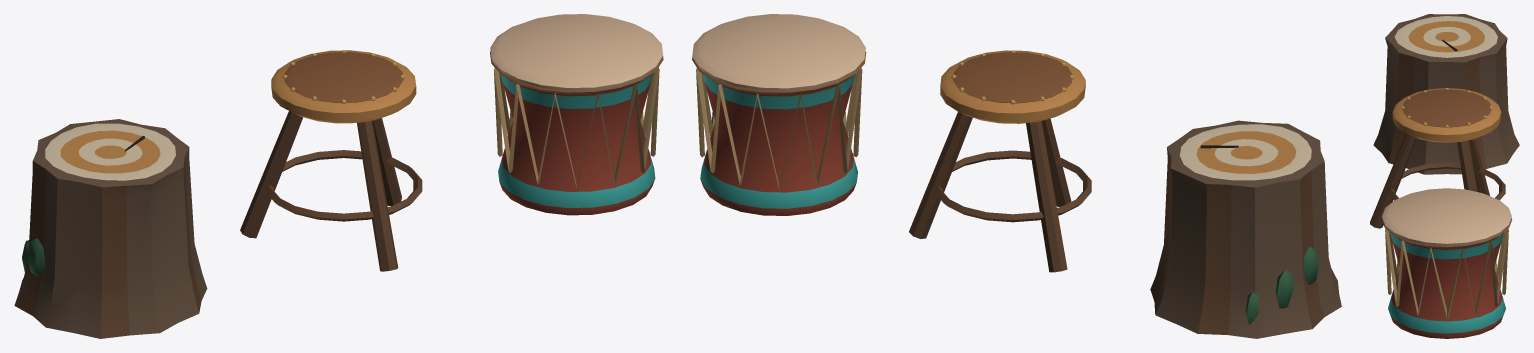
Rendered from deco_stool_set.fbx.
The picture shows the model from 3 angles, left to right: view 1: azimuth 30°, elevation 25°; view 2: azimuth 150°, elevation 25°; view 3: azimuth 270°, elevation 25°; orthographic projection. The views are drawn at different scales.
Parts seen in each view (by area): view 1: Stool_Set_StoolLog, Stool_Set_StoolDrum, Stool_Set_StoolTripod; view 2: Stool_Set_StoolLog, Stool_Set_StoolDrum, Stool_Set_StoolTripod; view 3: Stool_Set_StoolDrum, Stool_Set_StoolLog, Stool_Set_StoolTripod.
Part boxes in pixels (left/top/right/bottom): Stool_Set_StoolLog: left=14, top=119, right=207, bottom=338; Stool_Set_StoolDrum: left=490, top=14, right=663, bottom=215; Stool_Set_StoolTripod: left=240, top=50, right=422, bottom=271; Stool_Set_StoolLog: left=1150, top=120, right=1341, bottom=338; Stool_Set_StoolDrum: left=692, top=14, right=866, bottom=215; Stool_Set_StoolTripod: left=909, top=50, right=1091, bottom=272; Stool_Set_StoolDrum: left=1381, top=188, right=1512, bottom=338; Stool_Set_StoolLog: left=1373, top=14, right=1519, bottom=174; Stool_Set_StoolTripod: left=1370, top=88, right=1505, bottom=228.
Bounding box in the file's own units: 227 × 57.7 × 63.38.
